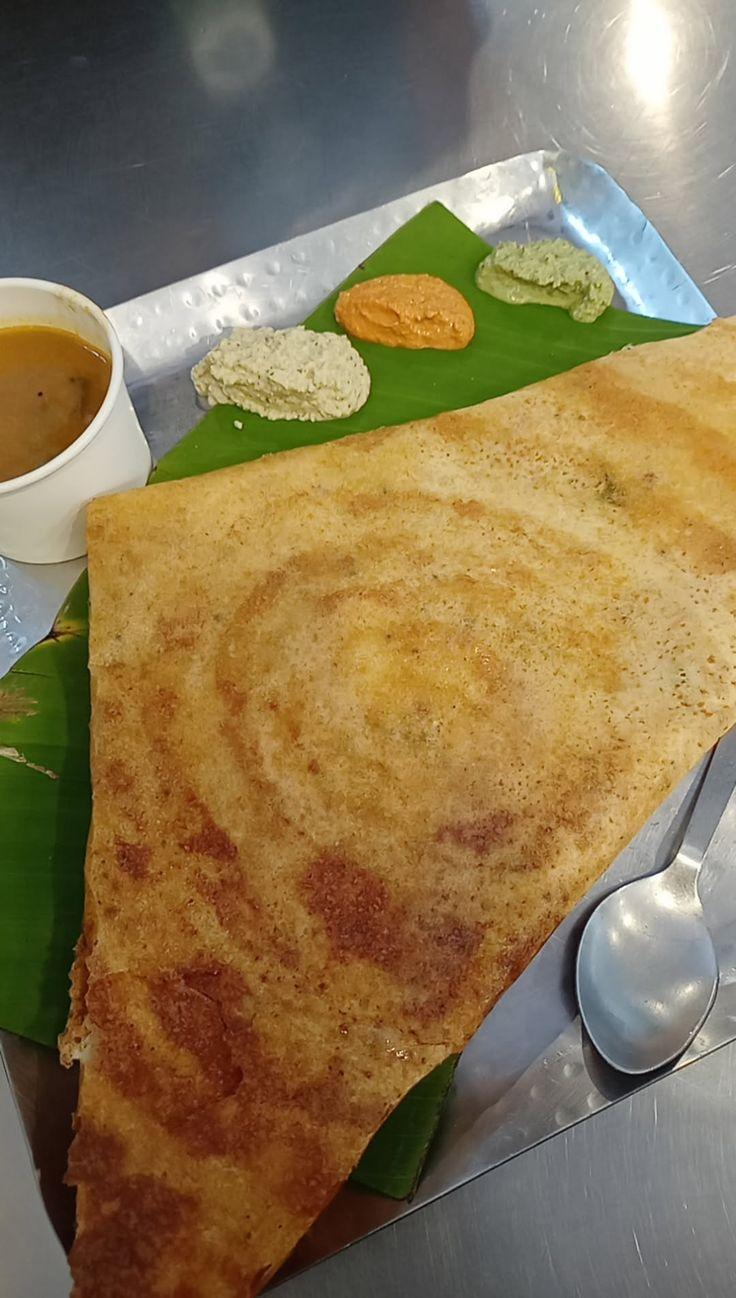dosa: (50, 332, 736, 1298)
